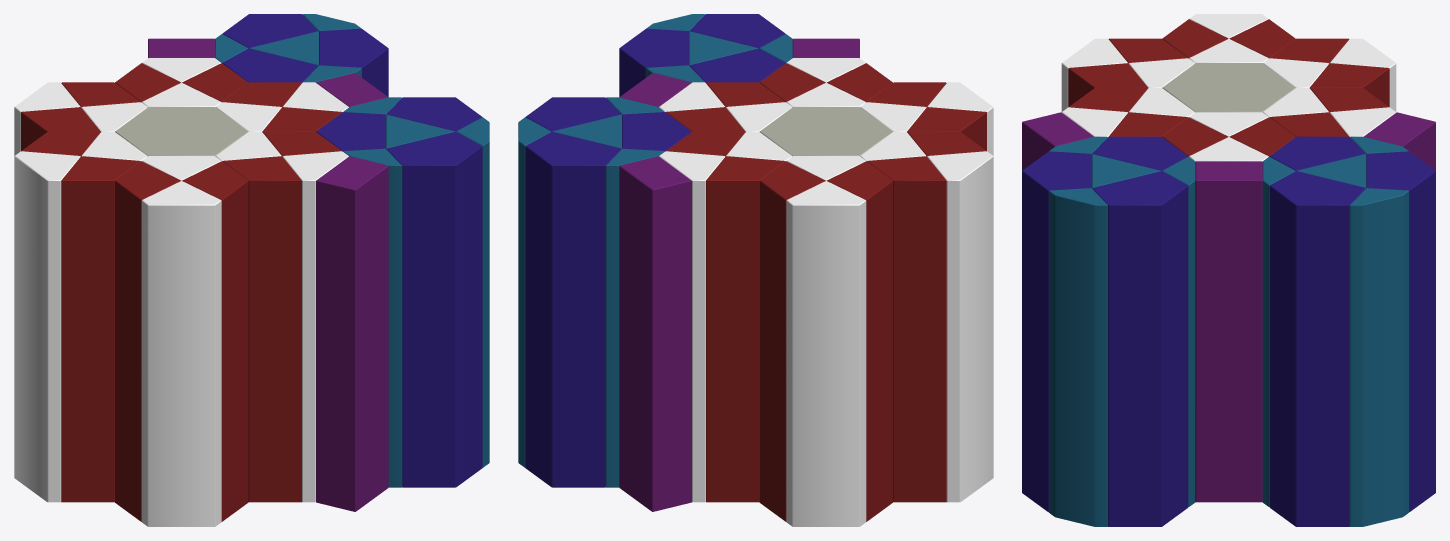
File: Paves_A03.FBX
3 views of the same model, side by side, from view 1: azimuth 30°, elevation 25°; view 2: azimuth 150°, elevation 25°; view 3: azimuth 270°, elevation 25° (orthographic).
Visible parts, largest first — view 1: Line062, Object118, Plane018, Object109, Object127, Object110, Object117, Object119, Object126, Line065, Line049, Line064 (+30 smaller); view 2: Line056, Object124, Plane015, Object111, Object115, Object110, Object121, Object123, Object116, Line058, Line049, Line059 (+30 smaller); view 3: Line061, Line057, Plane012, Line059, Line064, Line056, Line062, Line049, Line054, Line055, Line043, Line063 (+30 smaller).
Part boxes in pixels (x1=…): Line062: x1=386, y1=131, x2=482, y2=487; Object118: x1=141, y1=181, x2=221, y2=526; Plane018: x1=316, y1=156, x2=388, y2=511; Object109: x1=61, y1=156, x2=140, y2=502; Object127: x1=222, y1=156, x2=301, y2=502; Object110: x1=14, y1=151, x2=80, y2=502; Object117: x1=182, y1=161, x2=248, y2=521; Object119: x1=115, y1=161, x2=180, y2=521; Object126: x1=282, y1=151, x2=348, y2=502; Line065: x1=343, y1=148, x2=402, y2=487; Line049: x1=115, y1=107, x2=248, y2=156; Line064: x1=456, y1=117, x2=489, y2=467; Line056: x1=525, y1=131, x2=621, y2=487; Object124: x1=786, y1=181, x2=866, y2=526; Plane015: x1=619, y1=156, x2=691, y2=511; Object111: x1=867, y1=156, x2=946, y2=502; Object115: x1=706, y1=156, x2=785, y2=502; Object110: x1=927, y1=151, x2=993, y2=502; Object121: x1=759, y1=161, x2=825, y2=521; Object123: x1=827, y1=161, x2=892, y2=521; Object116: x1=659, y1=151, x2=725, y2=502; Line058: x1=605, y1=148, x2=664, y2=487; Line049: x1=759, y1=107, x2=892, y2=156; Line059: x1=518, y1=117, x2=551, y2=467; Line061: x1=1092, y1=171, x2=1188, y2=526; Line057: x1=1269, y1=171, x2=1365, y2=526; Plane012: x1=1195, y1=161, x2=1262, y2=502; Line059: x1=1350, y1=188, x2=1408, y2=526; Line064: x1=1049, y1=188, x2=1107, y2=526; Line056: x1=1366, y1=151, x2=1435, y2=512; Line062: x1=1022, y1=151, x2=1091, y2=512; Line049: x1=1162, y1=63, x2=1295, y2=112; Line054: x1=1162, y1=156, x2=1195, y2=506; Line055: x1=1262, y1=156, x2=1295, y2=506; Line043: x1=1269, y1=136, x2=1365, y2=170; Line063: x1=1092, y1=136, x2=1188, y2=170.
Bounding box in the file's own units: 162 × 127 × 148.
